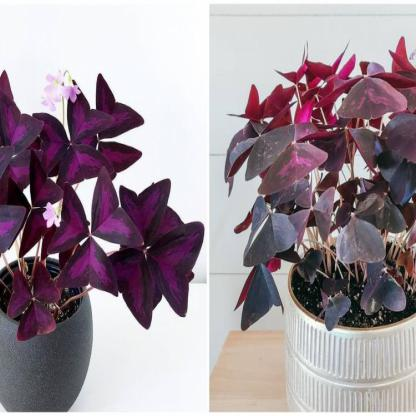Kupu-Kupu: (232, 83, 334, 191), (57, 178, 140, 293), (126, 173, 188, 324), (349, 45, 416, 177)
